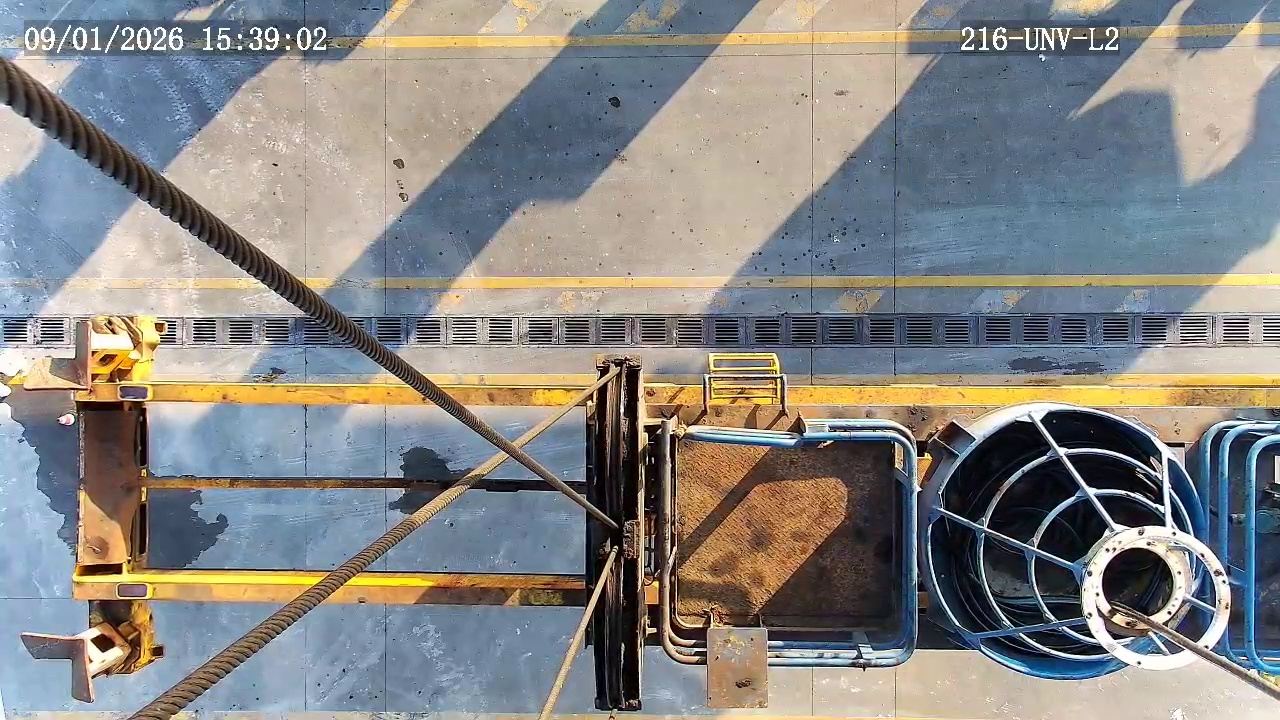left: (928, 408, 1207, 680)
